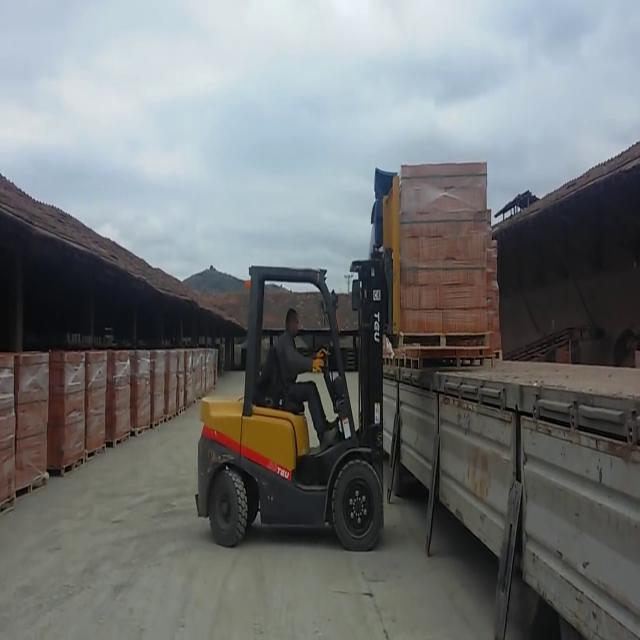Chariot elevateur: (189, 248, 394, 570)
